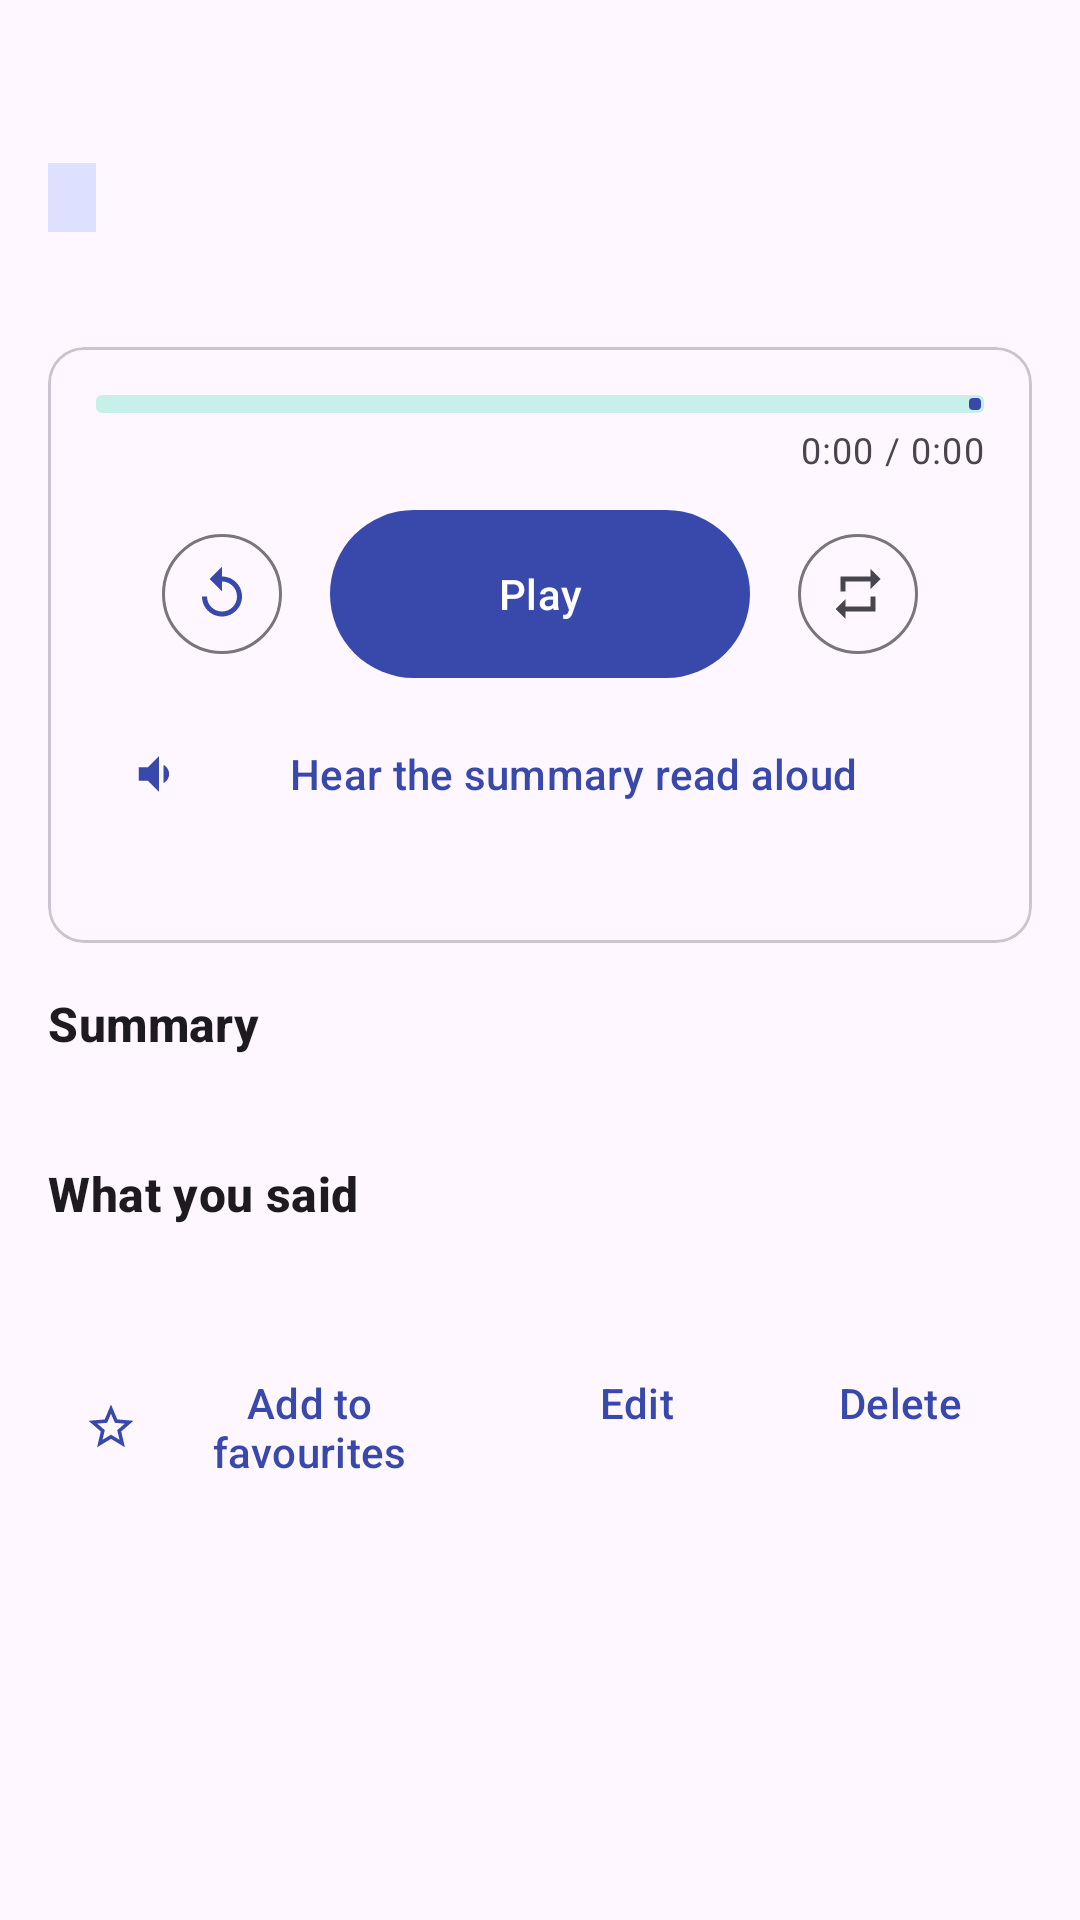

Where to tap for icons on this 1080 x 1920 app screen, as point (x, y):
Repeat this clip: point (858, 594)
